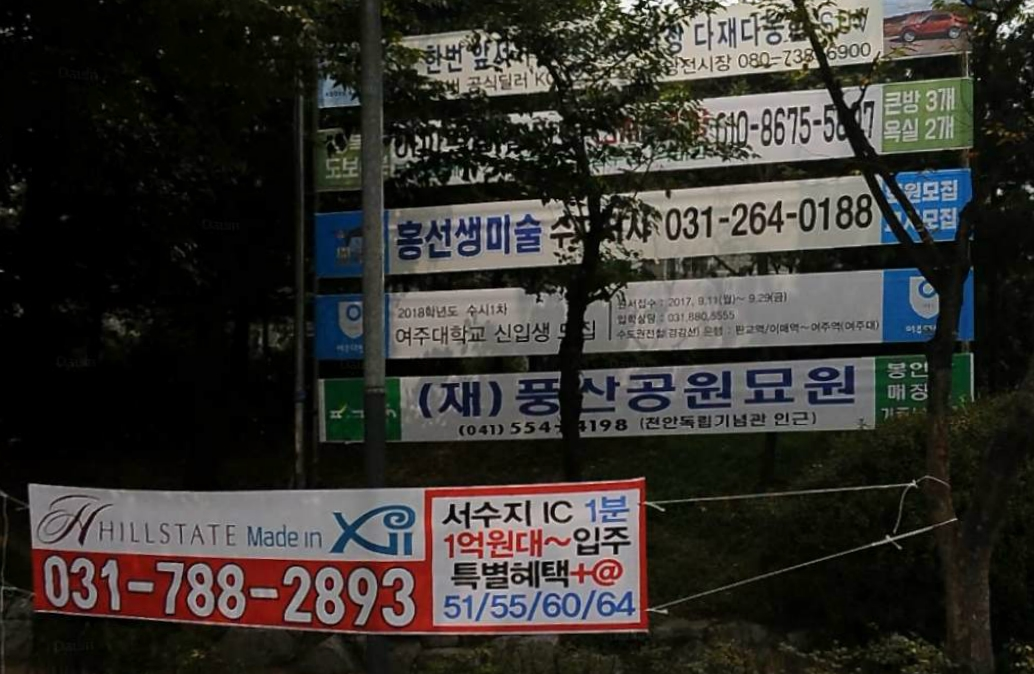banner: (25, 470, 651, 626), (306, 72, 984, 198), (307, 161, 989, 286), (319, 256, 989, 362), (300, 345, 987, 443)
